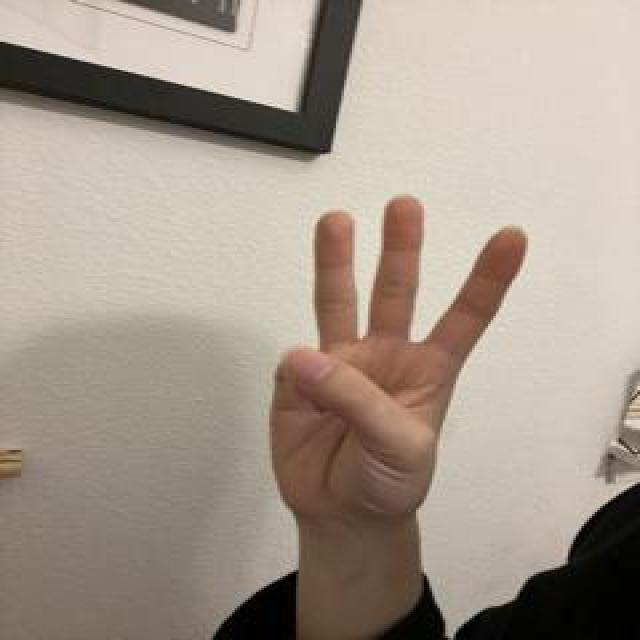W: (262, 190, 534, 528)
